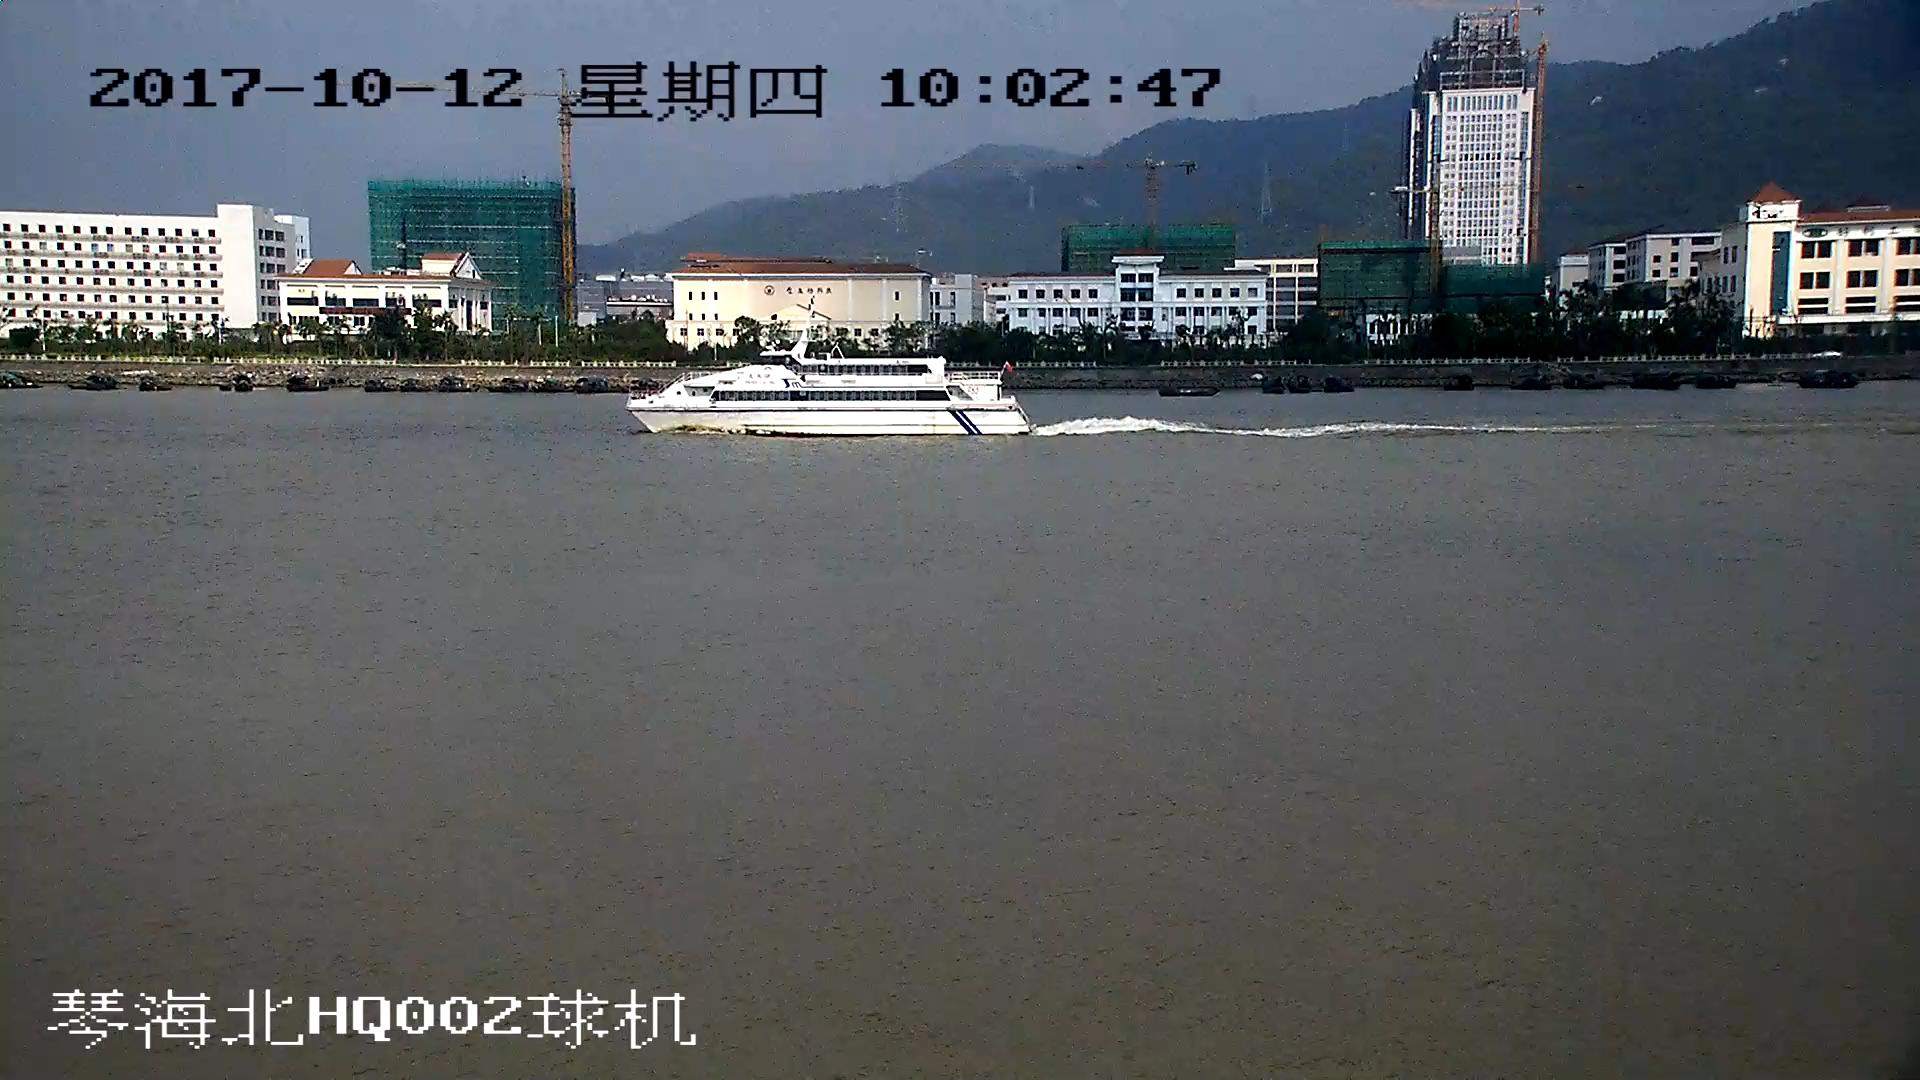passenger ship: (631, 308, 1035, 435)
